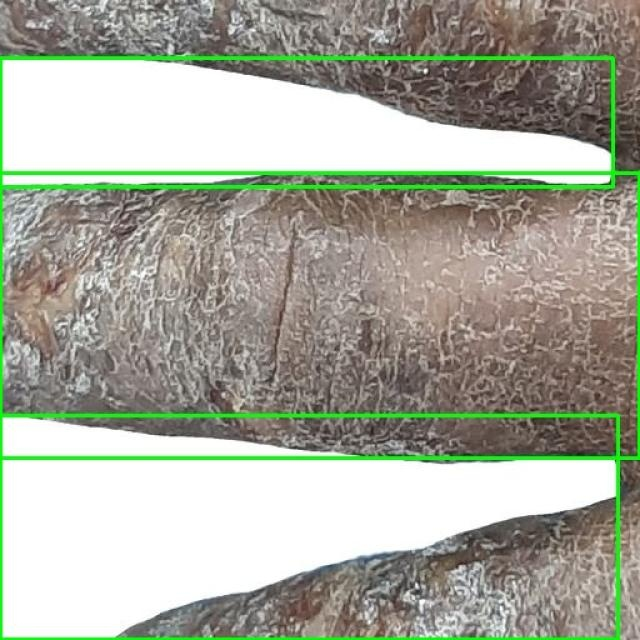Eczema: (0, 174, 639, 459), (0, 415, 618, 639), (0, 58, 612, 186)
